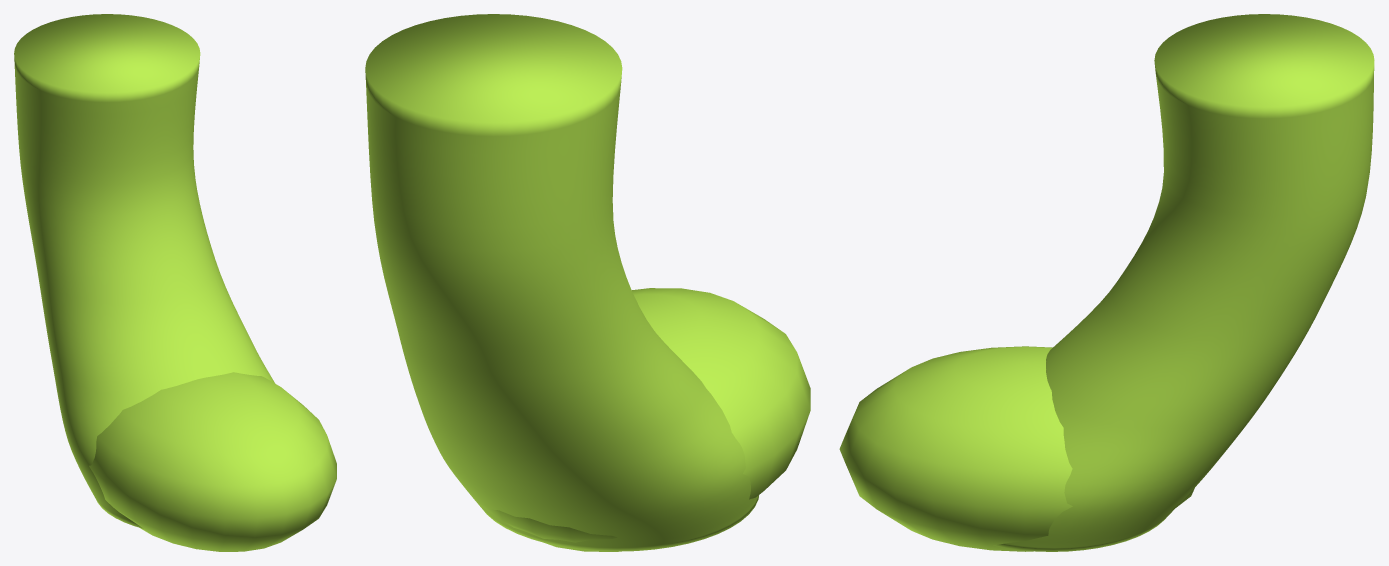
Rendered from toon-neck.glb.
3 views of the same model, side by side, from view 1: azimuth 30°, elevation 25°; view 2: azimuth 150°, elevation 25°; view 3: azimuth 270°, elevation 25° (orthographic). The views are drawn at different scales.
Visible parts, largest first — view 1: UprightNeck, GroundCollar; view 2: UprightNeck, GroundCollar; view 3: UprightNeck, GroundCollar.
Boxes of the visible parts, x1,y1,x2,y2 form: UprightNeck: (14, 14, 274, 528); GroundCollar: (89, 372, 336, 551); UprightNeck: (365, 14, 758, 551); GroundCollar: (480, 288, 810, 551); UprightNeck: (993, 14, 1374, 551); GroundCollar: (839, 346, 1194, 551).
Bounding box in the file's own units: 0.74 × 1.38 × 1.41.
